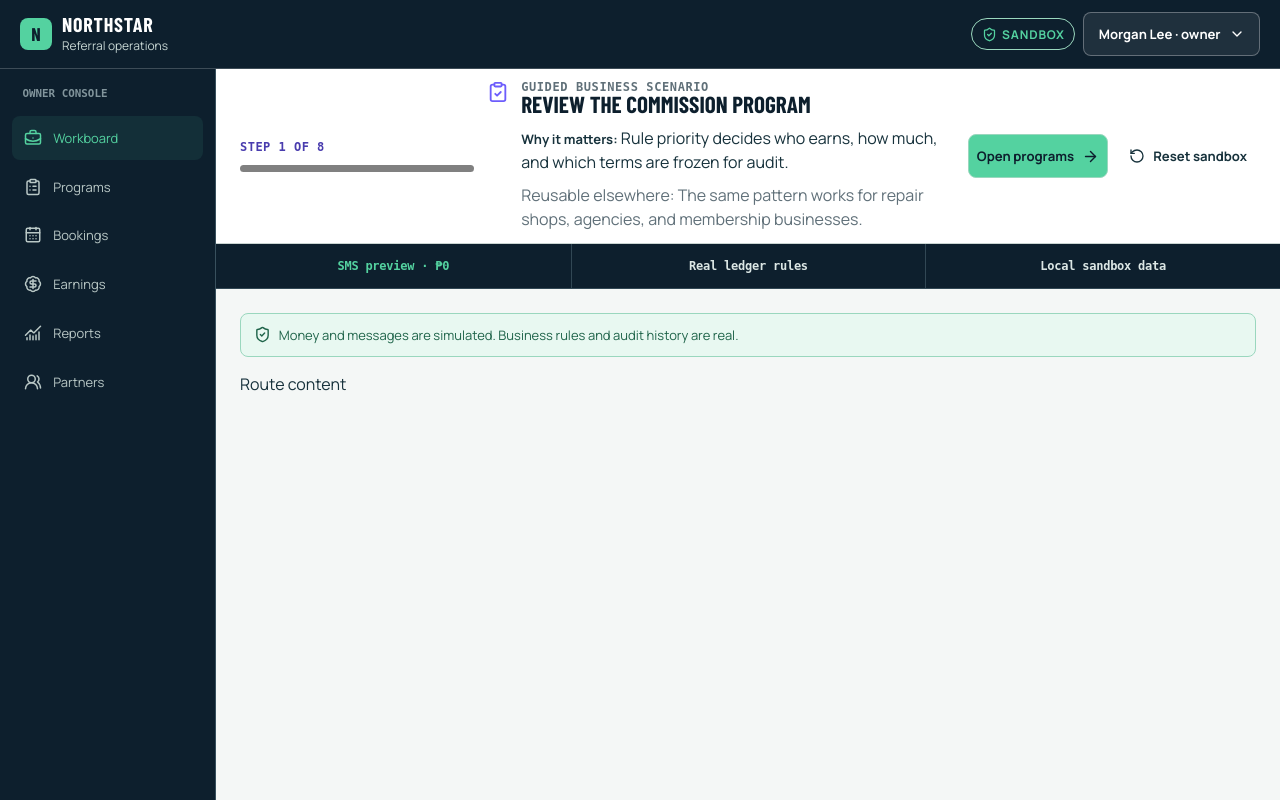
Test: SandboxWorkspaceProvider guided composition › restores the last-good persona with a visible error when switching fails
The image size is (1280, 800).
expect the text "Route content" is shown: met, box [240,373,346,395]
Click the button with aria-label "switch persona" at (1172, 34), box [1083,12,1260,56]
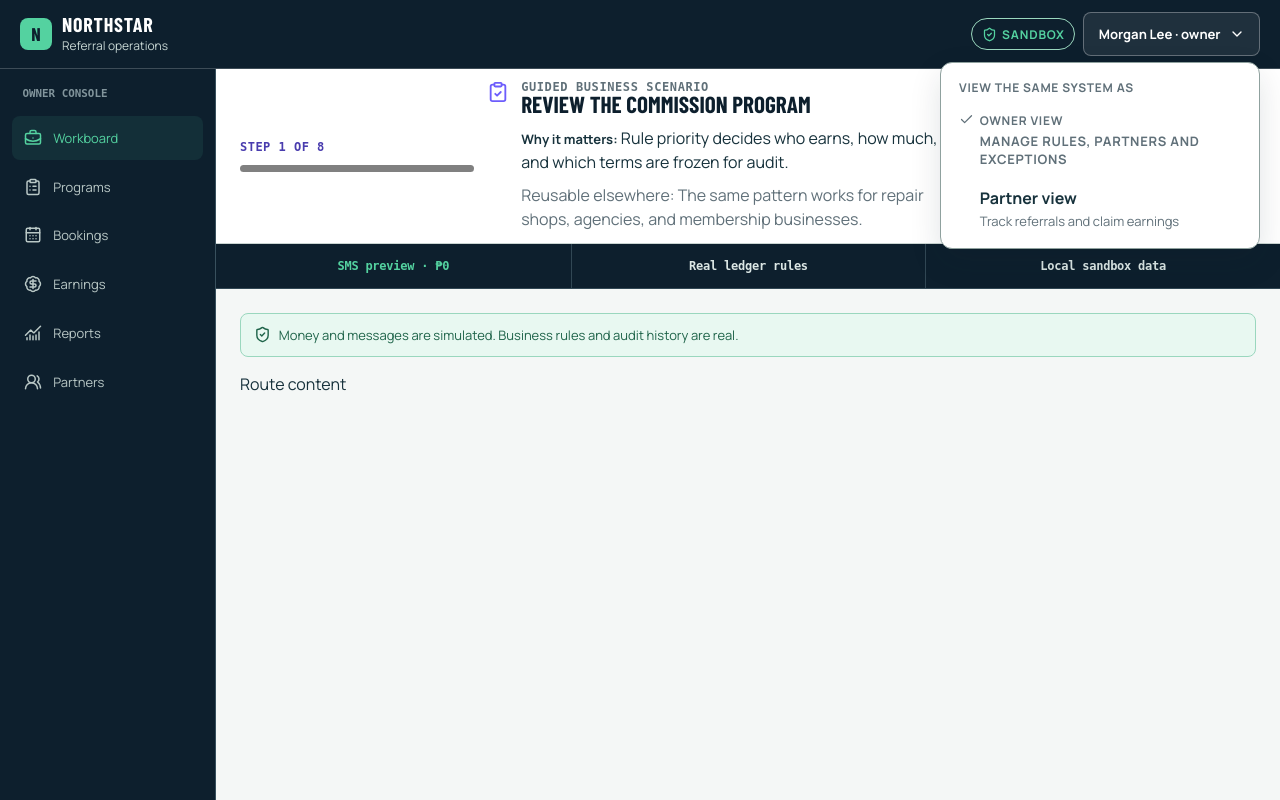
Click the menu item "Partner view Track referrals and claim earnings" at (1080, 208), box [980,187,1179,230]
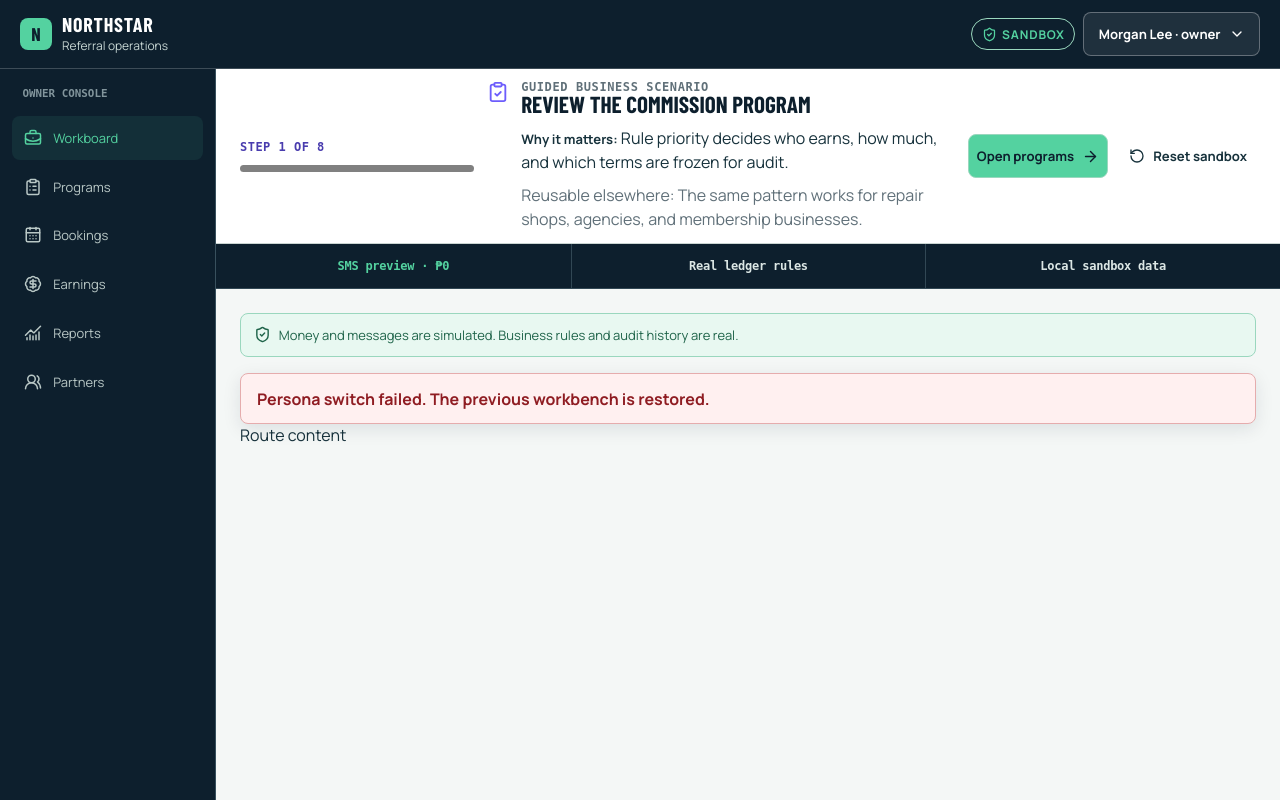
expect the text "Route content" is shown: met, box [240,424,346,446]
expect the message shows "previous workbench is restored": met, box [257,388,710,410]
